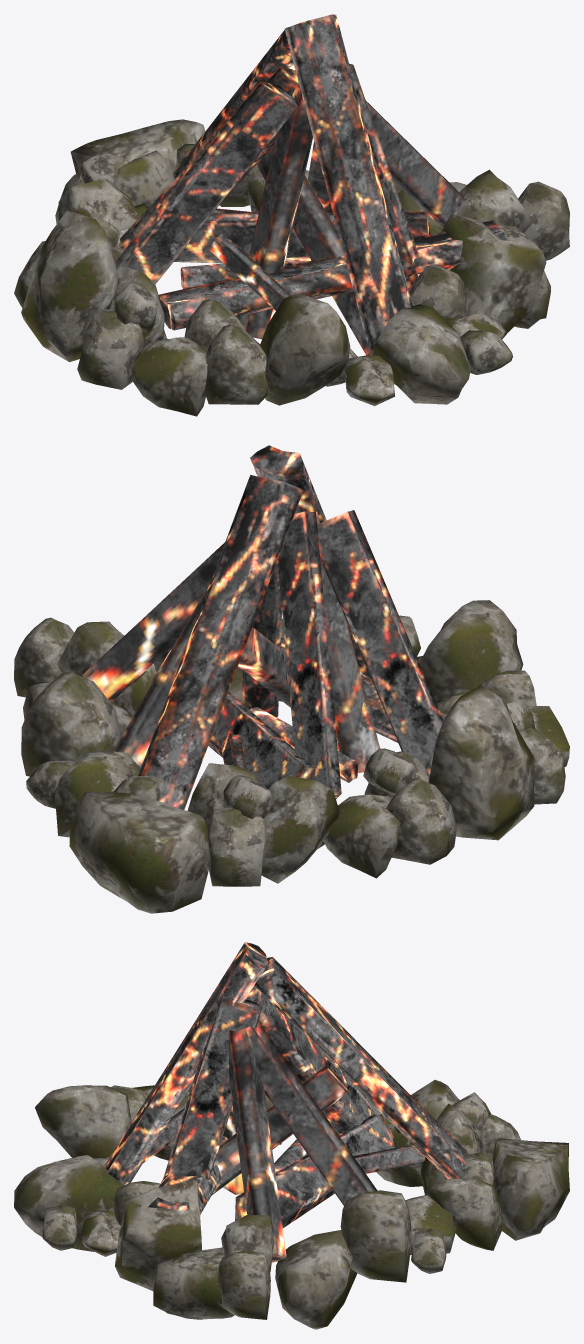
File: small_fire_place_90_23ou.glb
3 views of the same model, one above another, from view 1: azimuth 30°, elevation 25°; view 2: azimuth 150°, elevation 25°; view 3: azimuth 270°, elevation 25° (orthographic). The views are drawn at different scales.
Parts seen in each view (by area): view 1: sm_environment_assets_stone1_low20, sm_environment_assets_fire_low; view 2: sm_environment_assets_stone1_low20, sm_environment_assets_fire_low; view 3: sm_environment_assets_stone1_low20, sm_environment_assets_fire_low.
Part boxes in pixels (x1,y1,x2,y2): sm_environment_assets_stone1_low20: (14,119,569,416); sm_environment_assets_fire_low: (115,14,509,355); sm_environment_assets_stone1_low20: (14,600,569,913); sm_environment_assets_fire_low: (82,445,446,809); sm_environment_assets_stone1_low20: (14,1080,569,1329); sm_environment_assets_fire_low: (104,942,469,1262).
Bounding box in the file's own units: 0.6614 × 0.4188 × 0.6935.
Materials: 1 (1 with a texture image).
